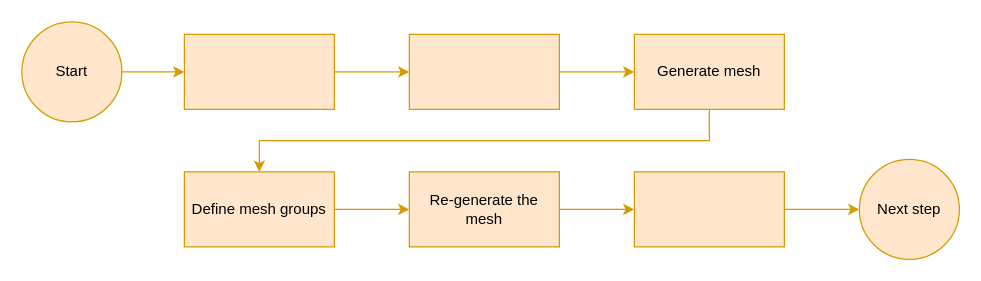
Some shapes in this 981 by 281 pixel diagram are drawn without their labels. Here are the shapes that lost their labels. From the top down, the box of each, then its label:
(183, 33, 334, 109): Create body
(408, 33, 559, 109): Import STEP file
(633, 171, 784, 247): Export the INP mesh file
